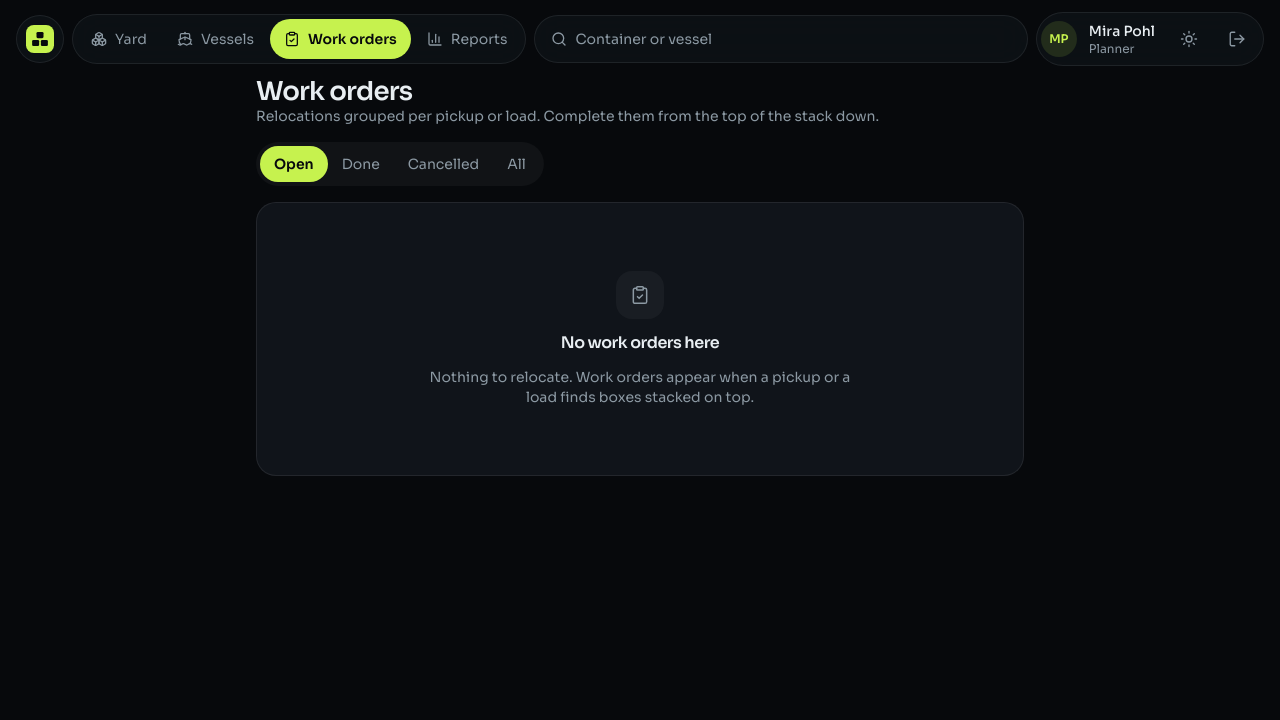
search › finds a container and opens its details
In the dropdown: (793, 39) [576,29,1011,49], type "hnfu2045"
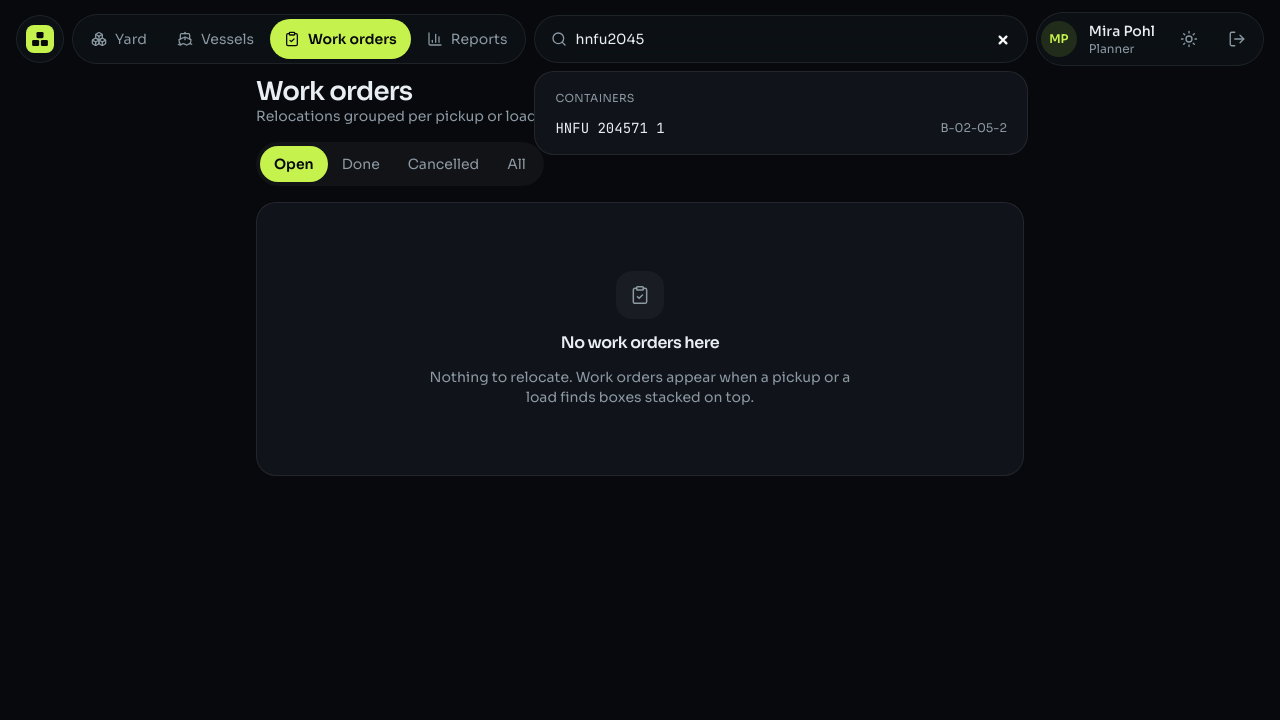
Click the button "HNFU 204571 1 B-02-05-2": click(610, 128) [544,110,1019,146]
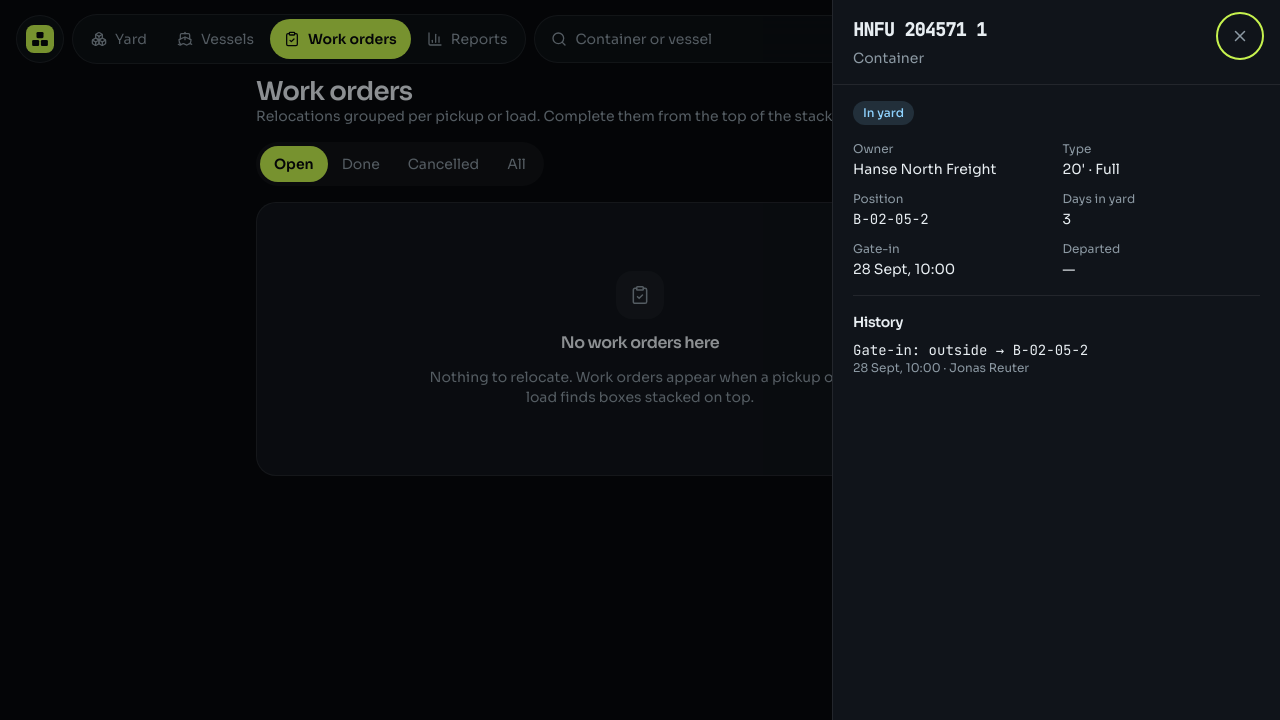
Expected: the text "Gate-in: outside → B-02-05-2" is shown, [853,341,1088,359]
